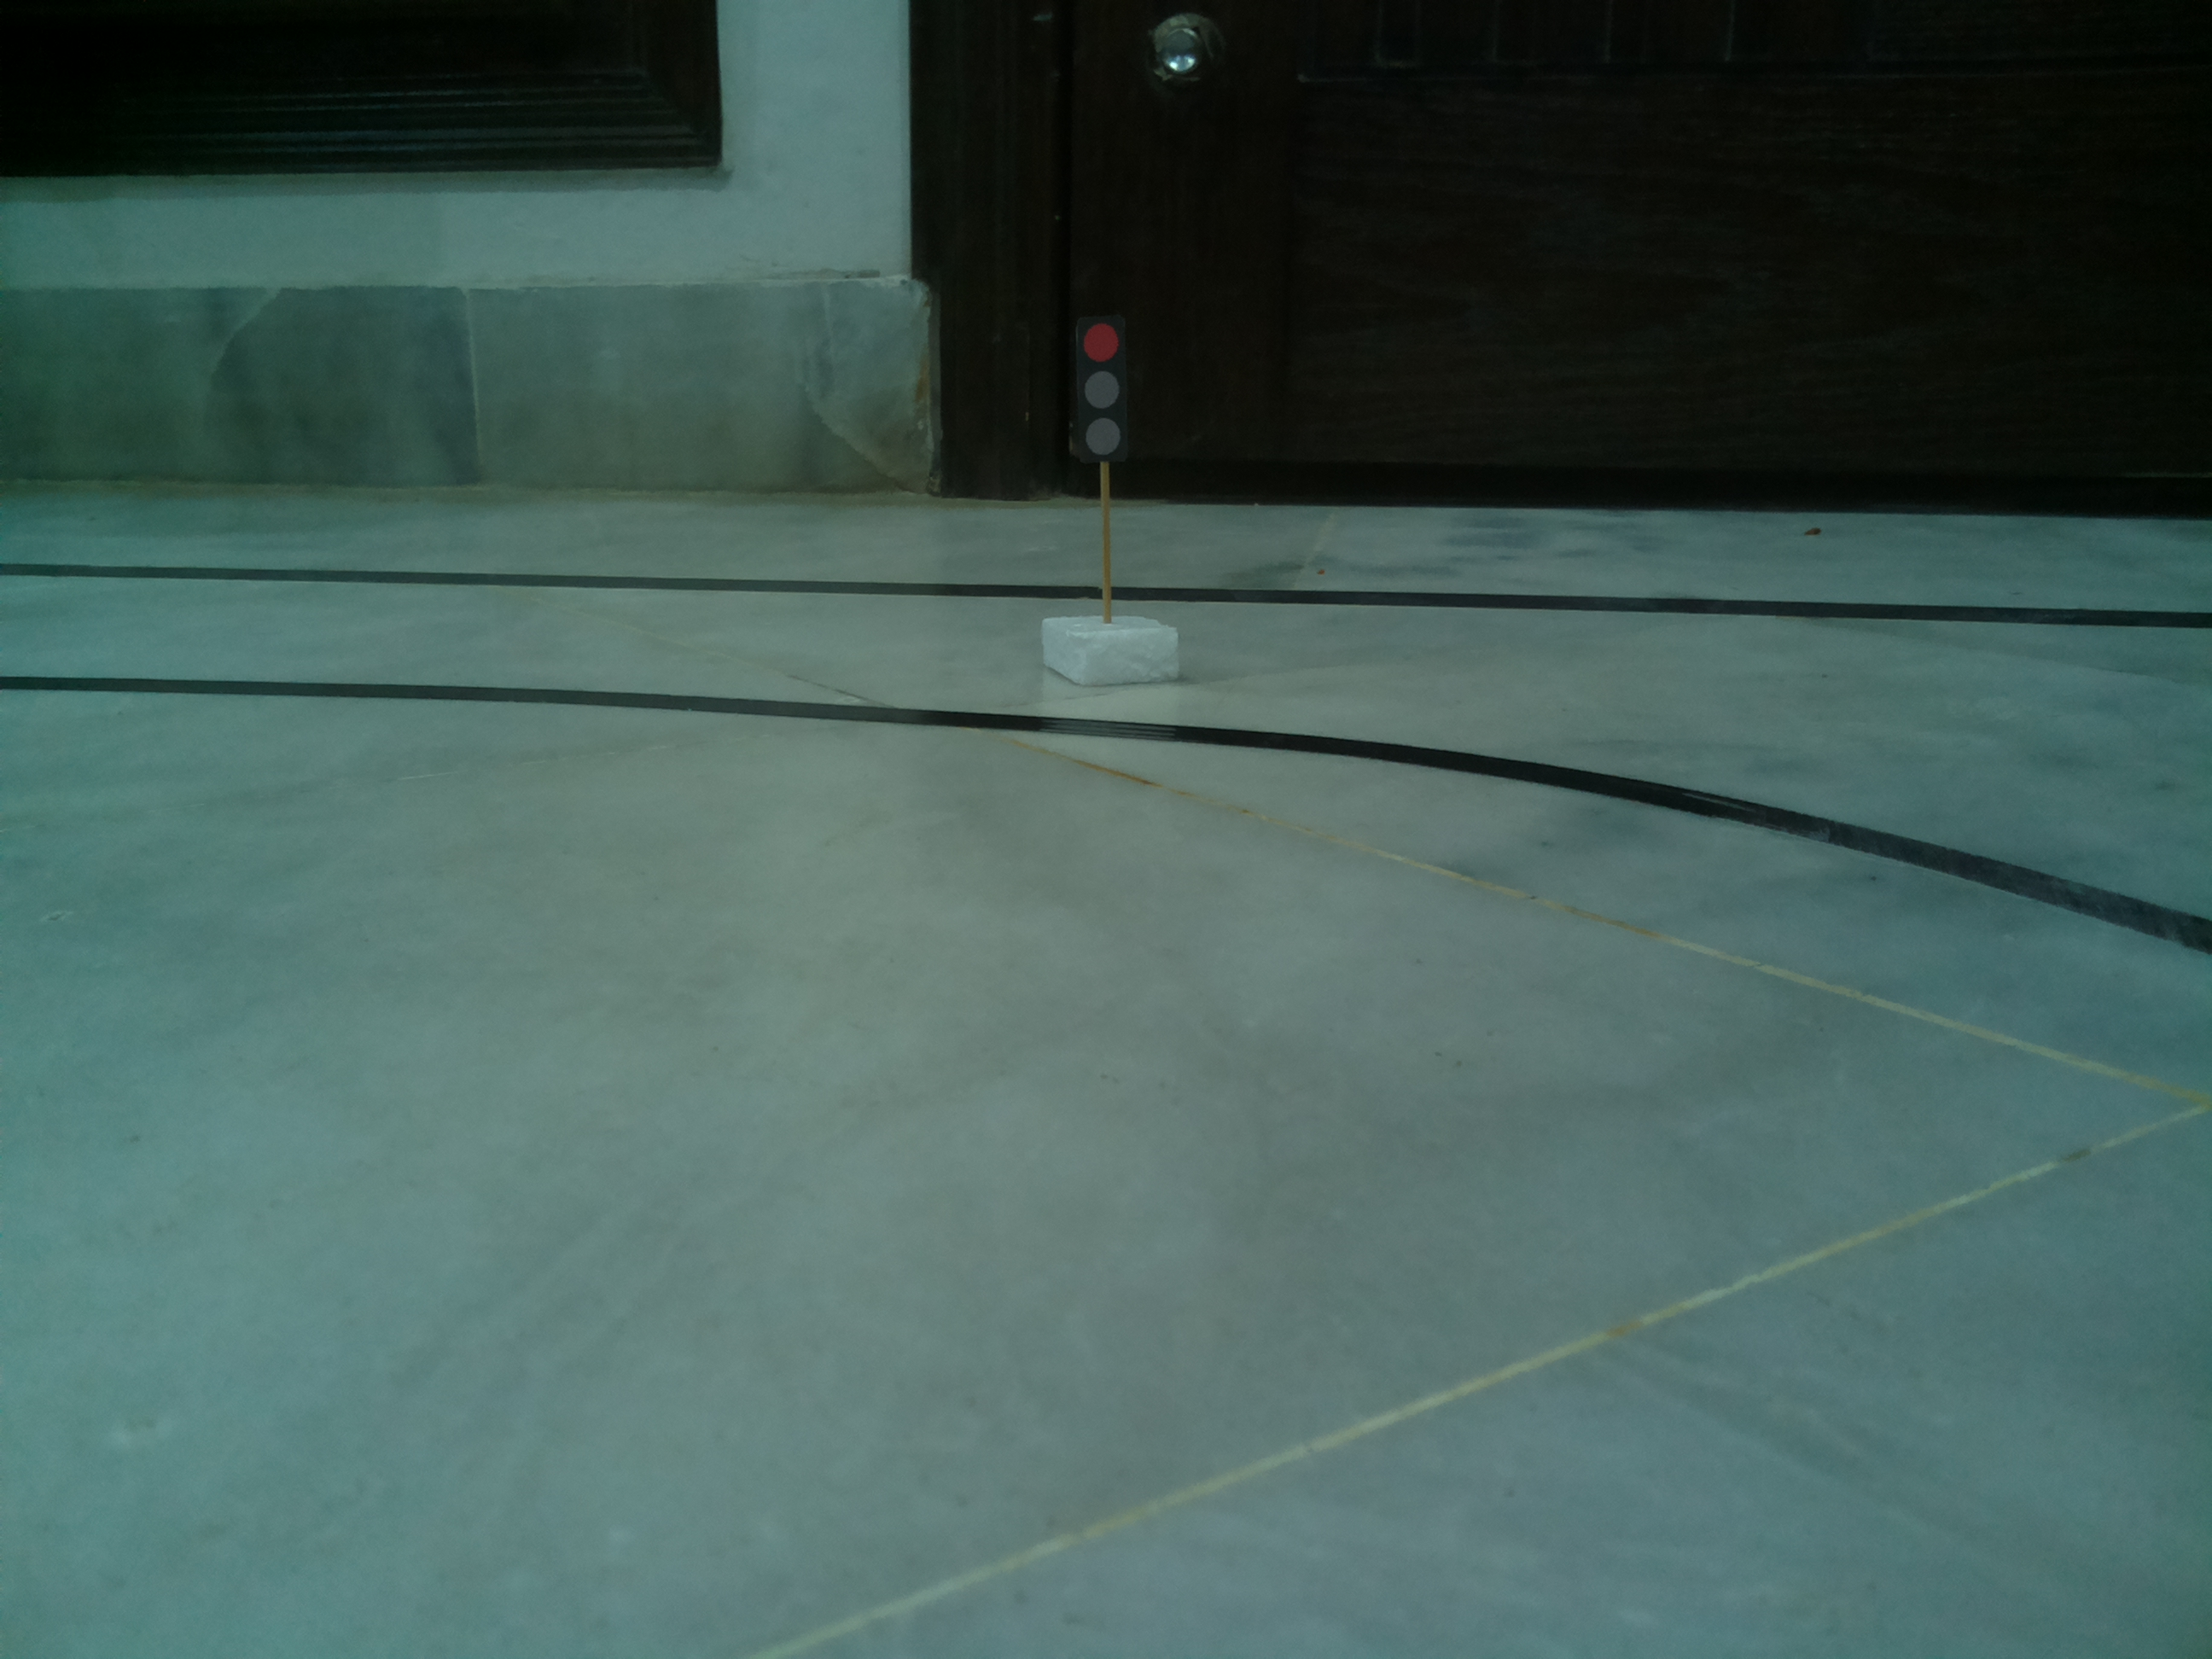Red traffic light: (1066, 310, 1139, 476)
